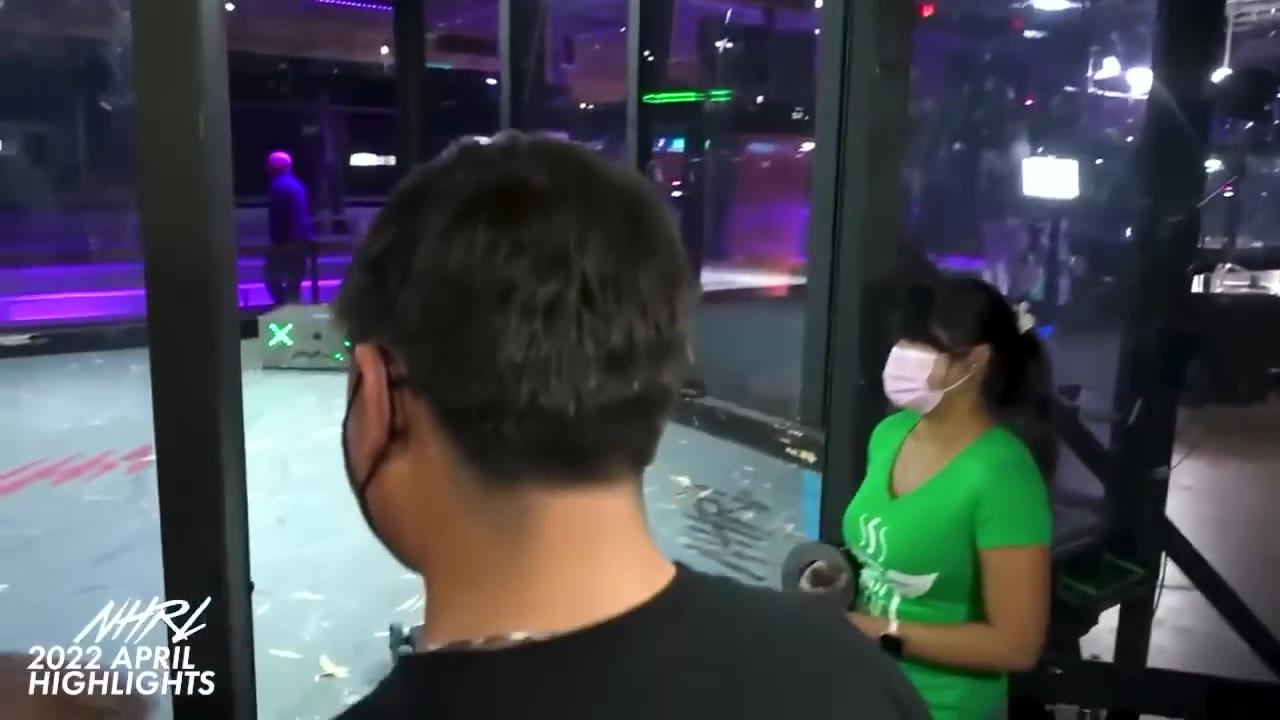housebot: (259, 301, 343, 377)
